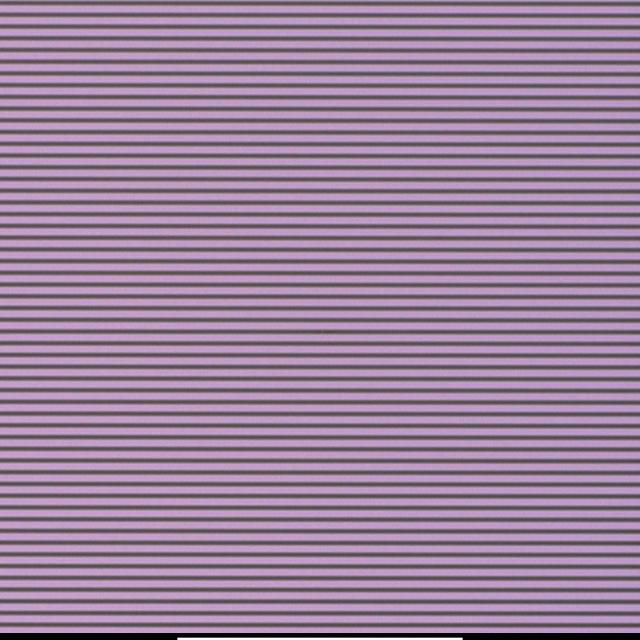03_intrusion: (318, 328, 324, 337)
